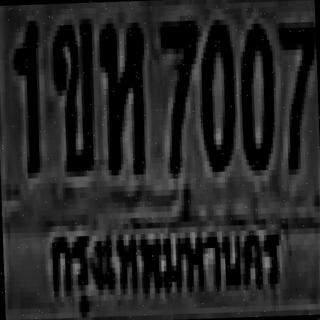A02: (49, 16, 94, 169)
A41: (98, 17, 146, 170)
N00: (196, 14, 234, 167), (236, 18, 274, 166)
N01: (12, 15, 40, 168)
N07: (157, 15, 200, 168), (276, 17, 318, 170)
P04: (44, 205, 288, 316)
